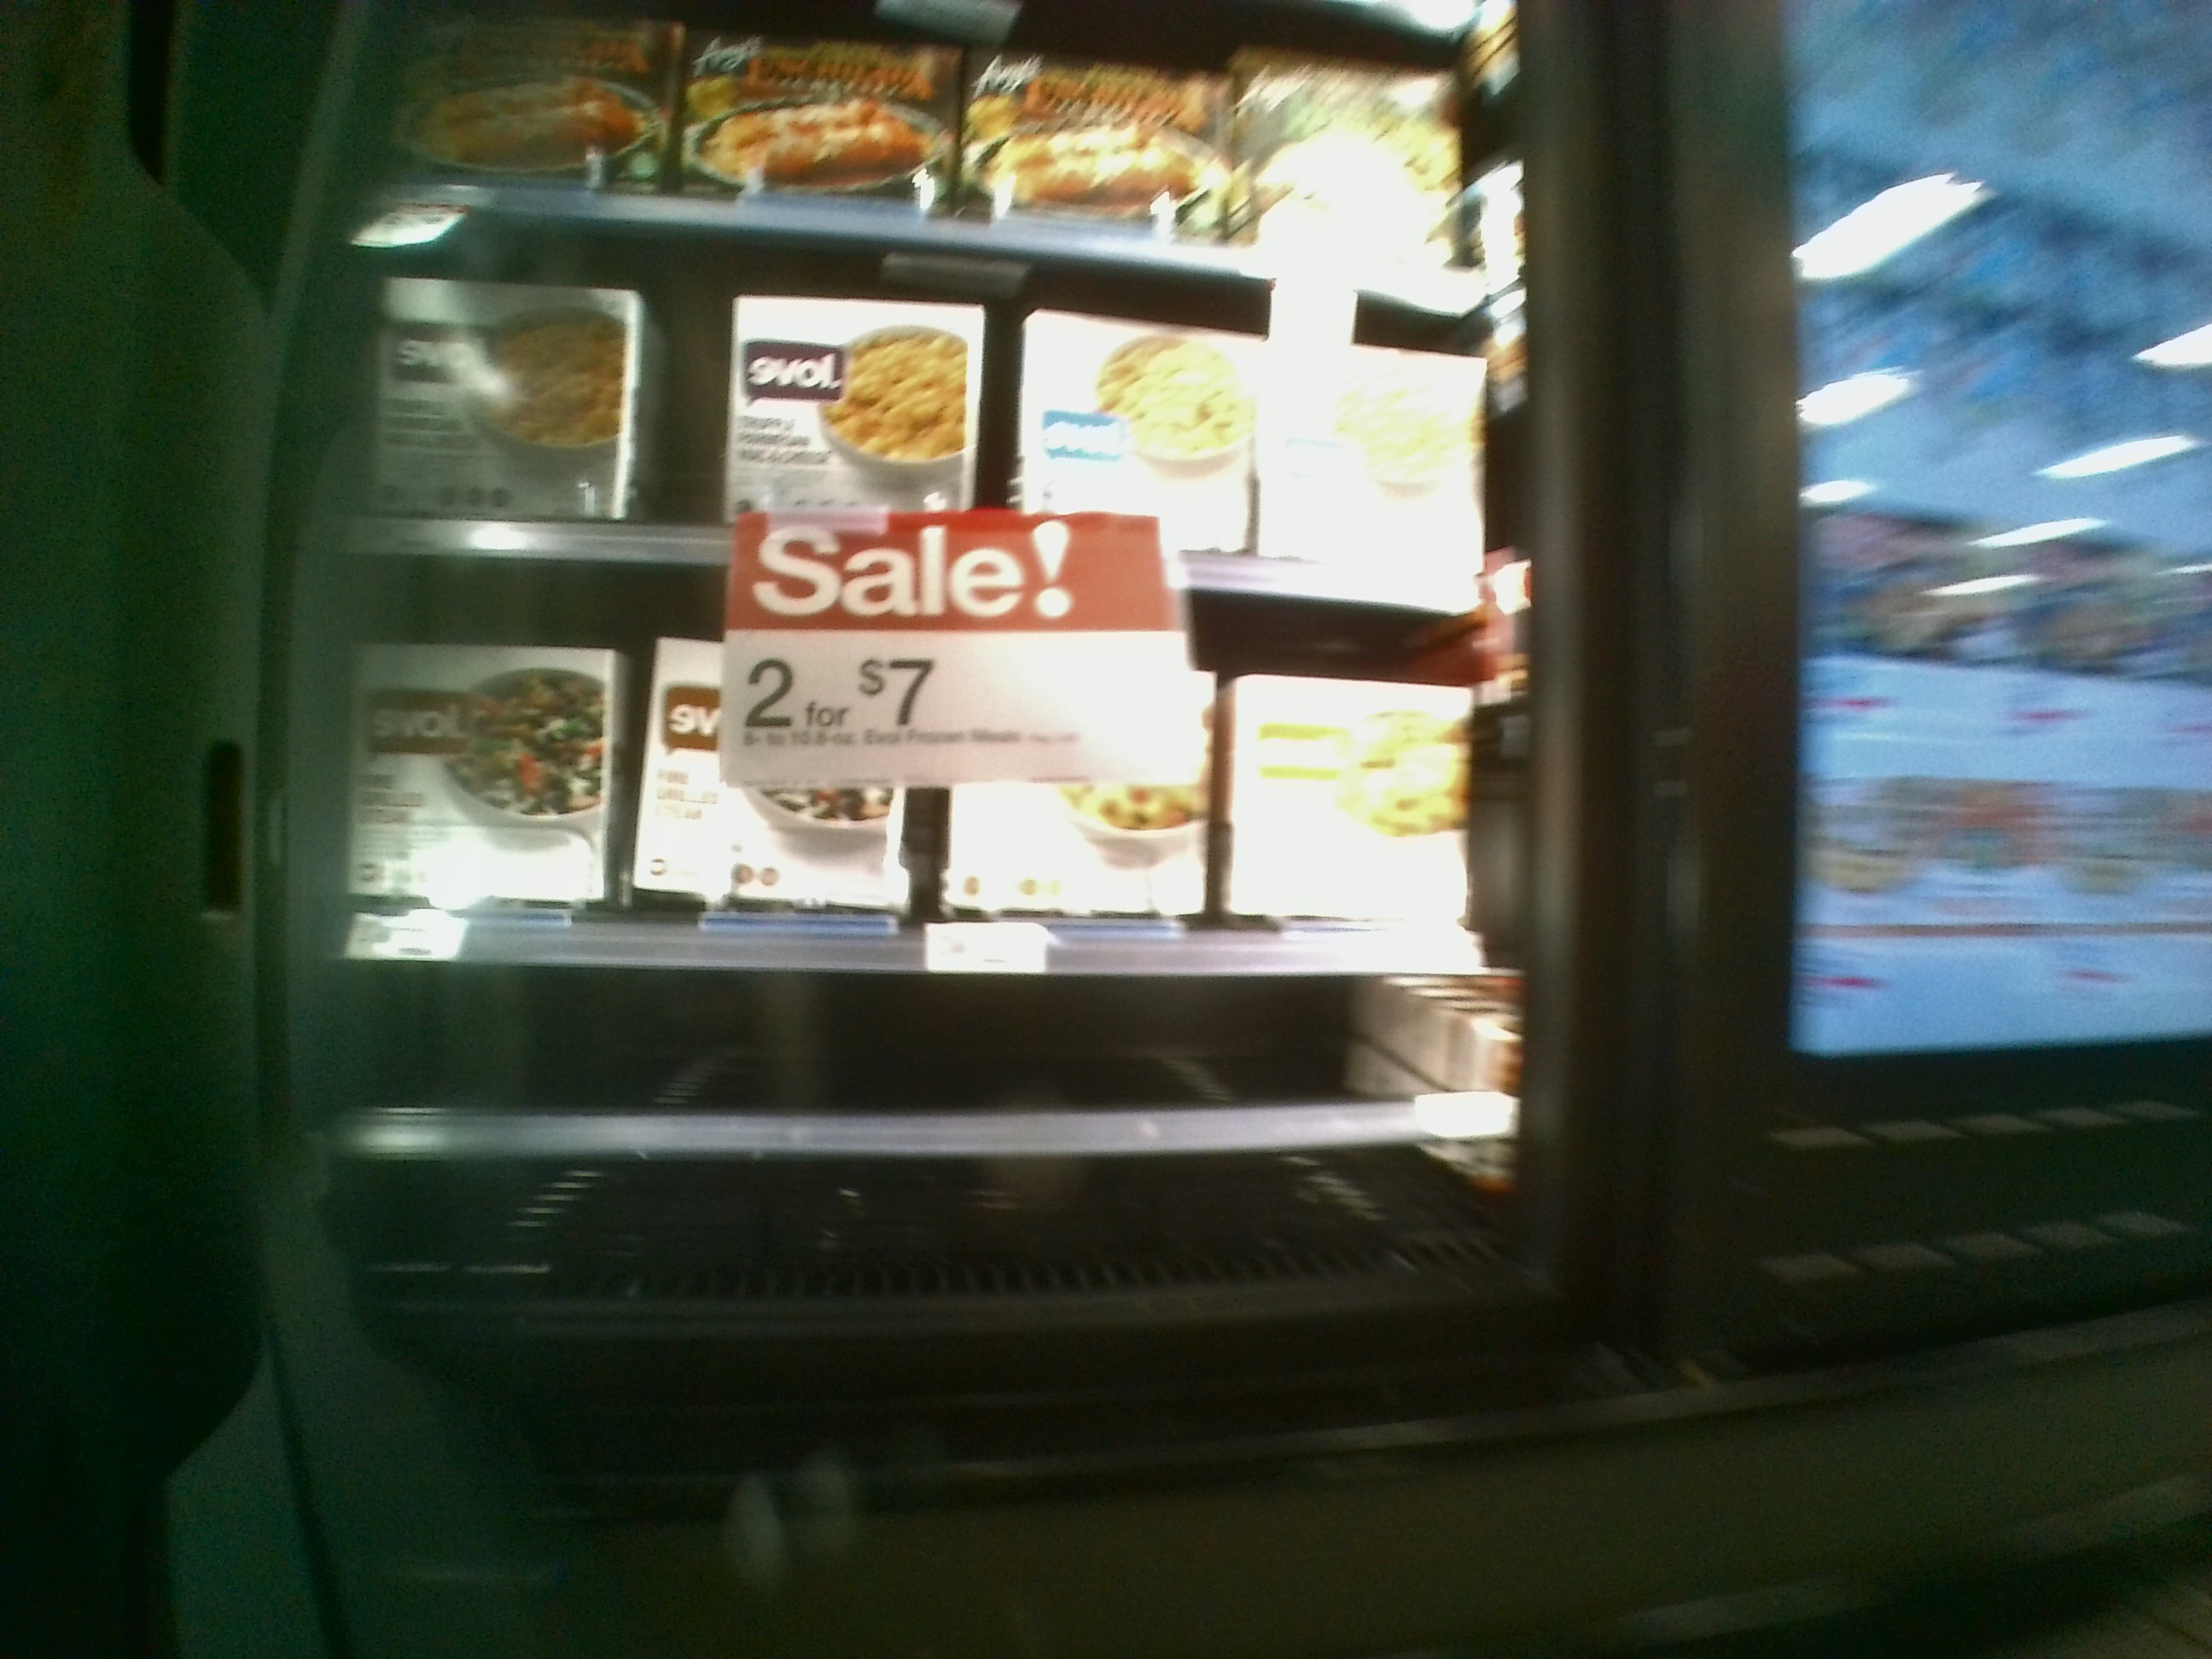shelf: (347, 594, 1517, 965), (345, 256, 1515, 594), (343, 953, 1514, 1281)
